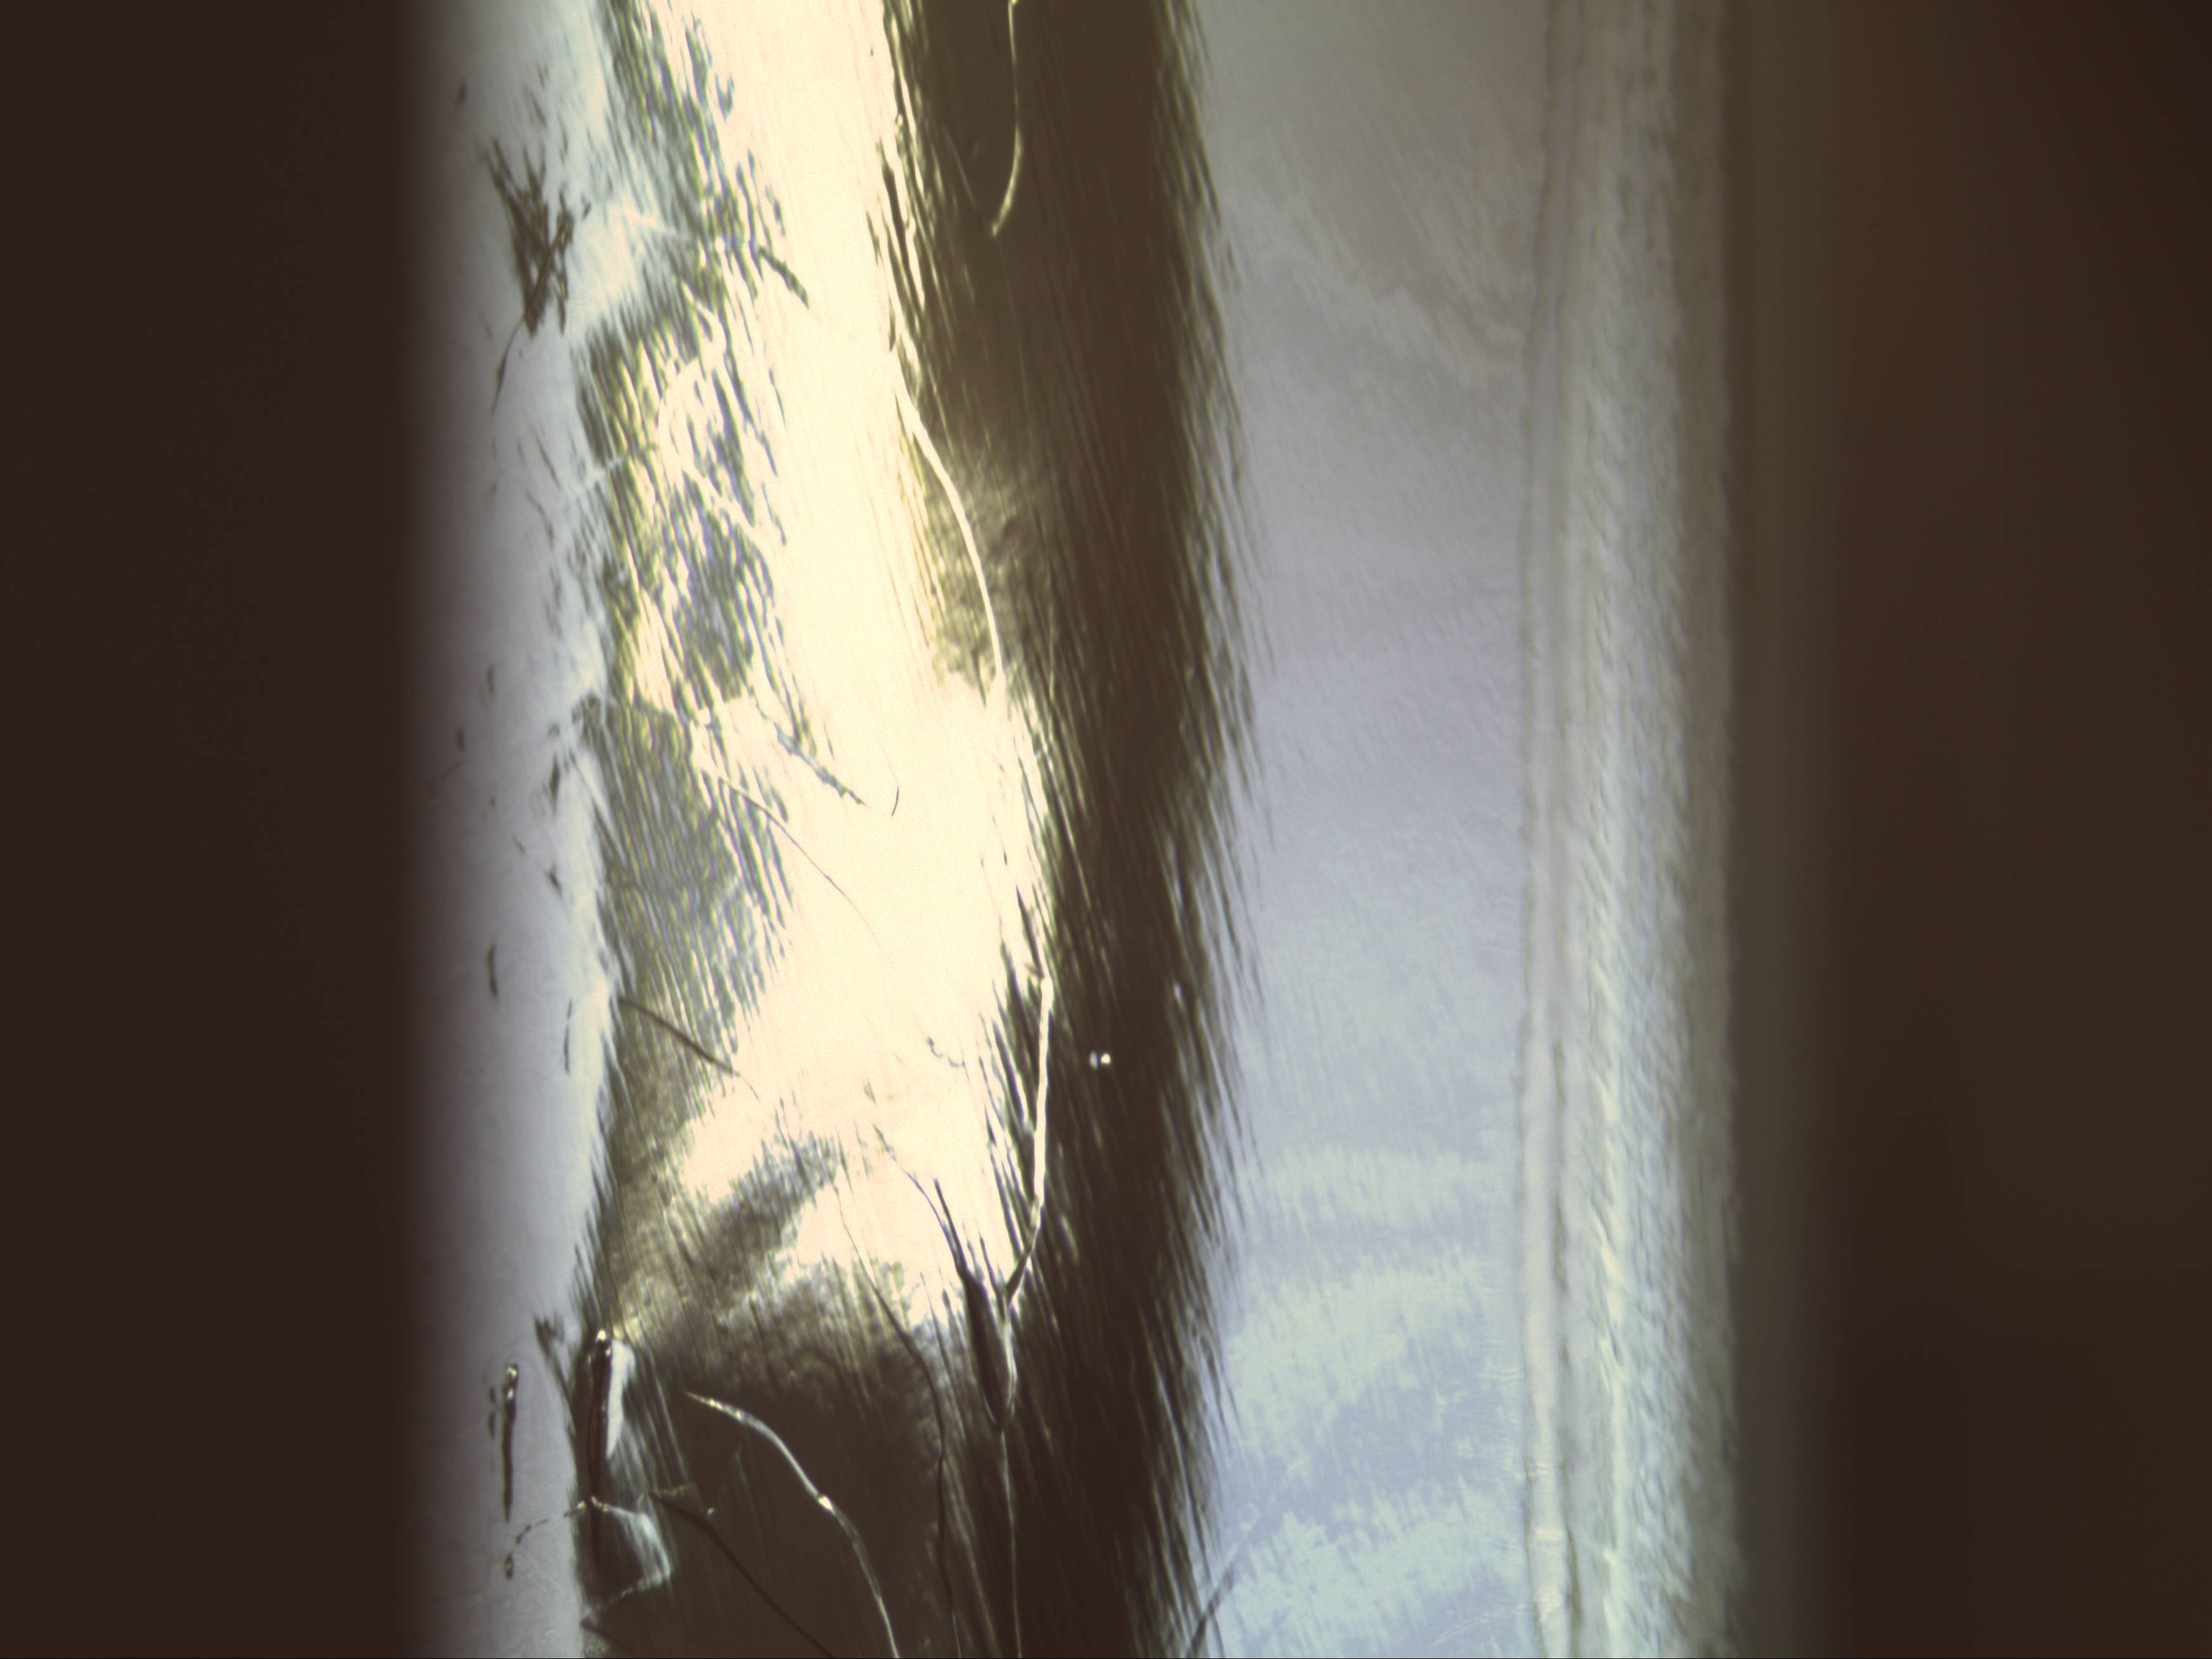defect: (1083, 1042, 1120, 1075)
